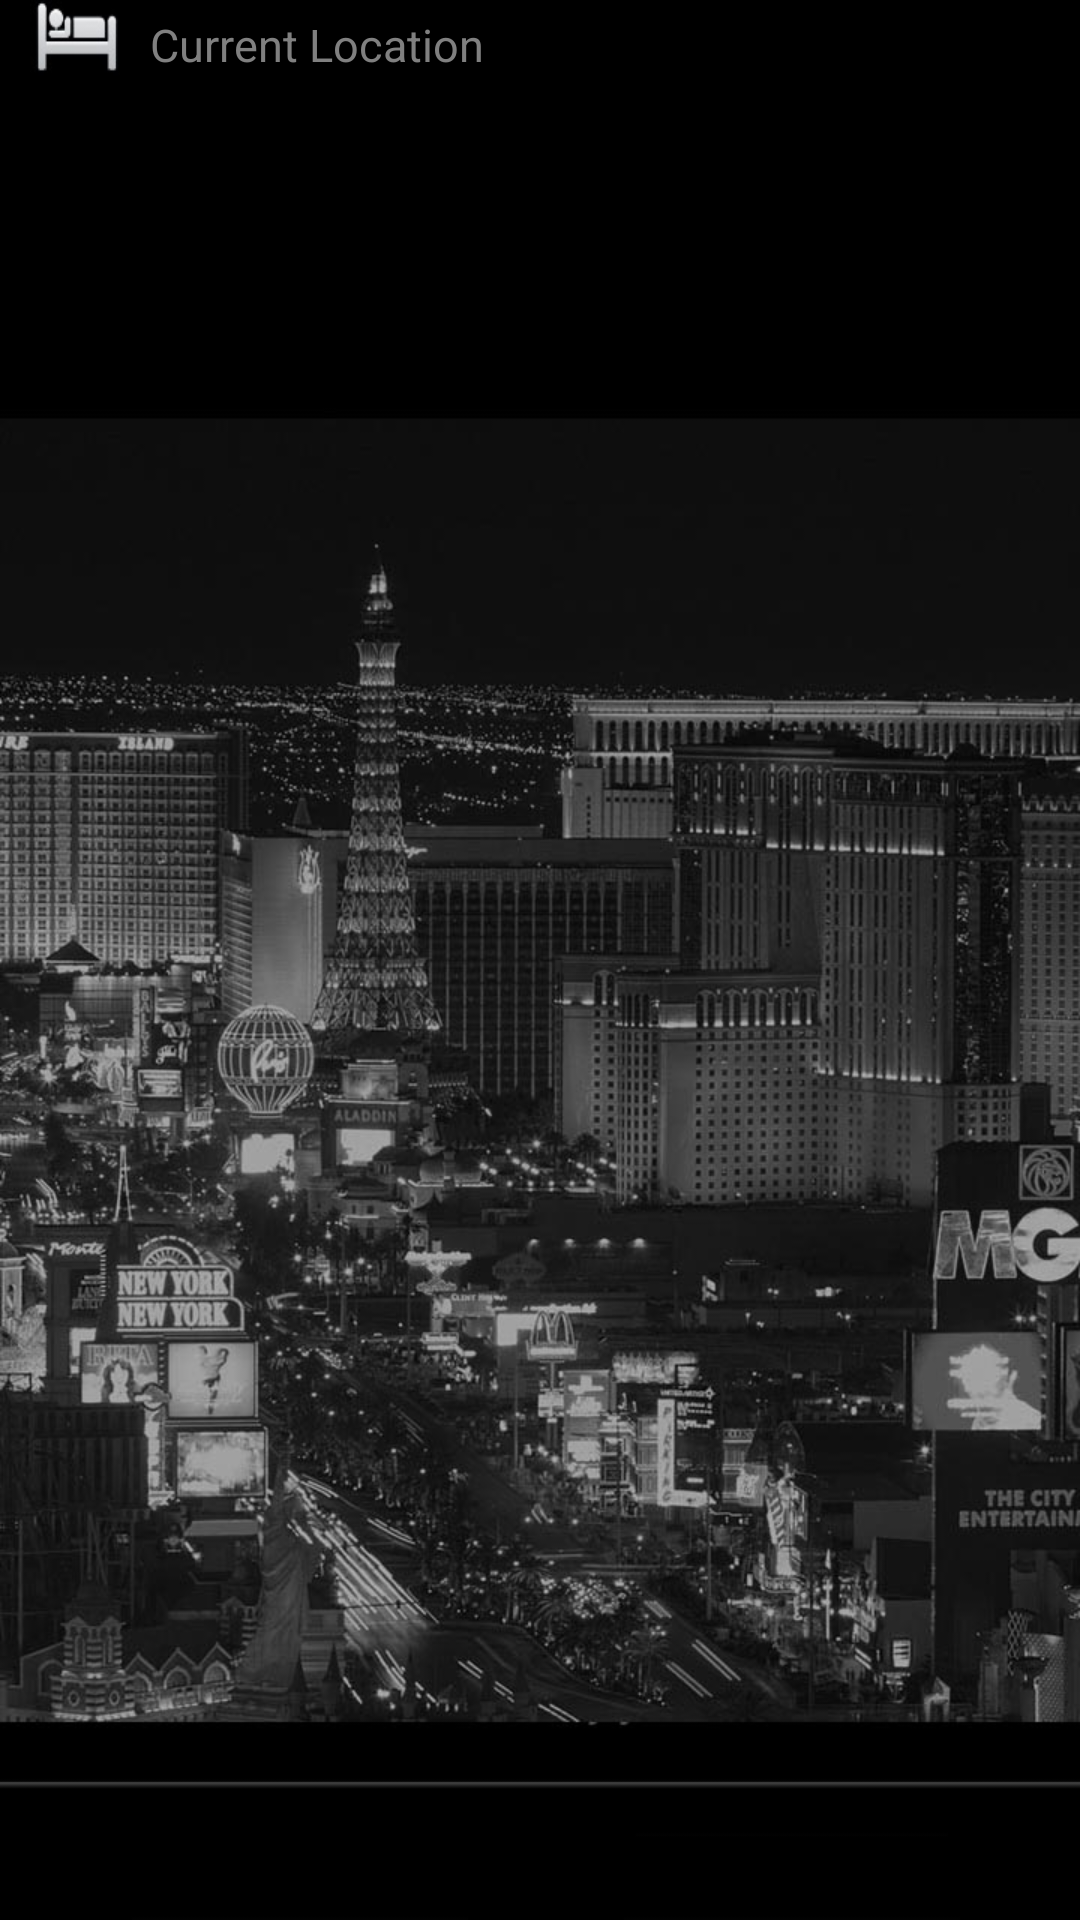

Locate icon controls on the screen. Image size 1080 x 1920, boxes as (x1, y1, x2, y2).
bed: (37, 3, 117, 71)
